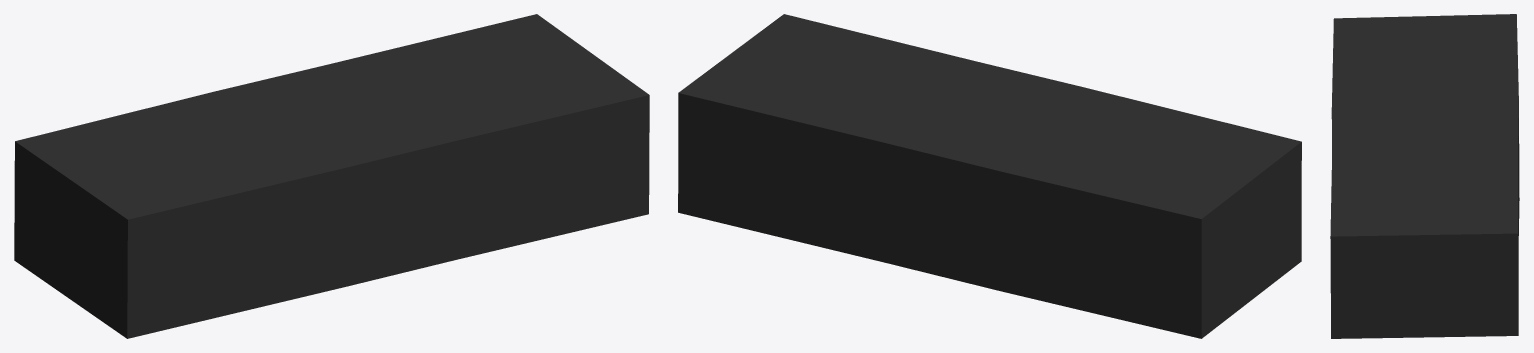
File: 44Mag.fbx
3 renders of one model, left to right at view 1: azimuth 30°, elevation 25°; view 2: azimuth 150°, elevation 25°; view 3: azimuth 270°, elevation 25°, orthographic. The views are drawn at different scales.
Visible parts, largest first — view 1: node_9dd0f6f6_31ed_4a20_9721_c0e673ea2e27_mesh0; view 2: node_9dd0f6f6_31ed_4a20_9721_c0e673ea2e27_mesh0; view 3: node_9dd0f6f6_31ed_4a20_9721_c0e673ea2e27_mesh0.
Boxes of the visible parts, box(x1,y1,x2,y2) form: node_9dd0f6f6_31ed_4a20_9721_c0e673ea2e27_mesh0: box(14, 14, 649, 338); node_9dd0f6f6_31ed_4a20_9721_c0e673ea2e27_mesh0: box(678, 14, 1301, 338); node_9dd0f6f6_31ed_4a20_9721_c0e673ea2e27_mesh0: box(1330, 14, 1519, 338).
Size of the model in its own units: 0.0646 by 0.0143 by 0.0234.
